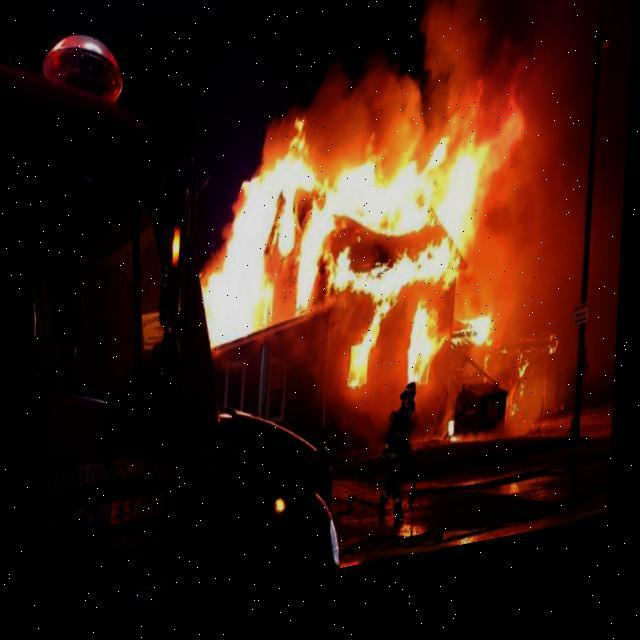Fire: (192, 94, 528, 424), (522, 372, 535, 402), (552, 352, 564, 377)
